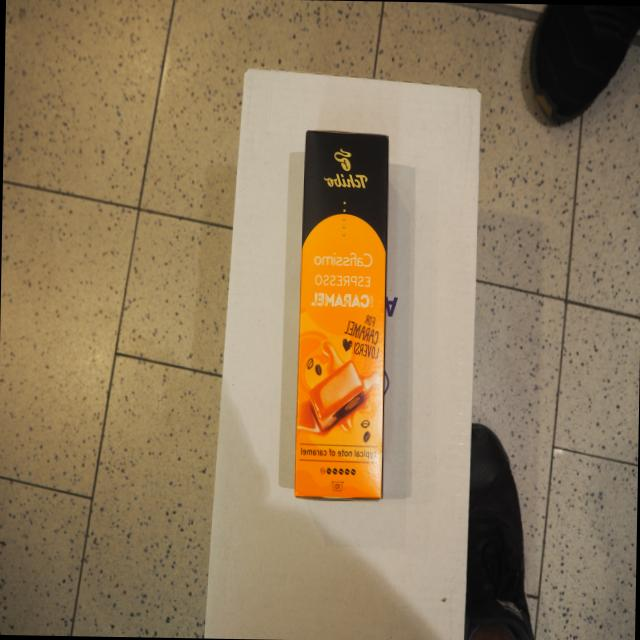Simo Es Caramel: (292, 126, 391, 502)
